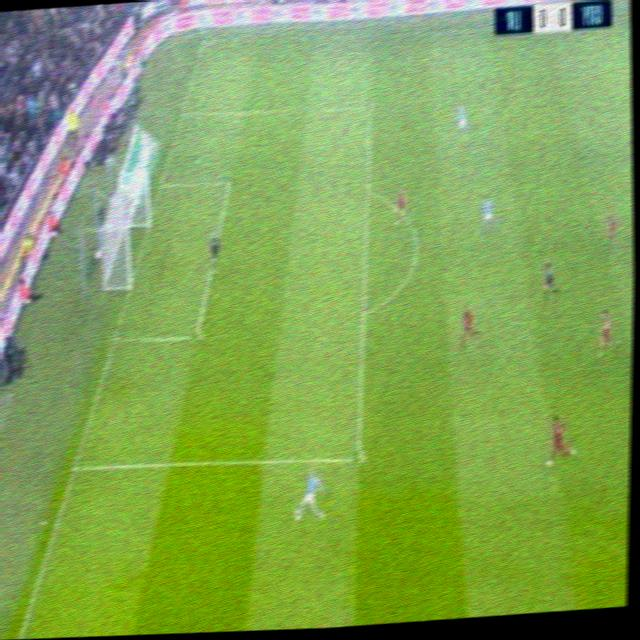bigarea_bottom_inner: (352, 450, 365, 462)
bigarea_bottom_outter: (69, 459, 82, 474)
bigarea_top_inner: (365, 100, 375, 114)
bigarea_top_outter: (179, 106, 188, 118)
bottom_arc_area_intersection: (360, 304, 371, 319)
corner: (201, 36, 213, 44)
smallarea_bottom_inner: (190, 325, 204, 342)
smallarea_bottom_outter: (109, 328, 122, 346)
smallarea_top_inner: (223, 174, 235, 189)
smallarea_top_outter: (157, 177, 168, 190)
top_arc_area_intersection: (363, 184, 374, 196)
